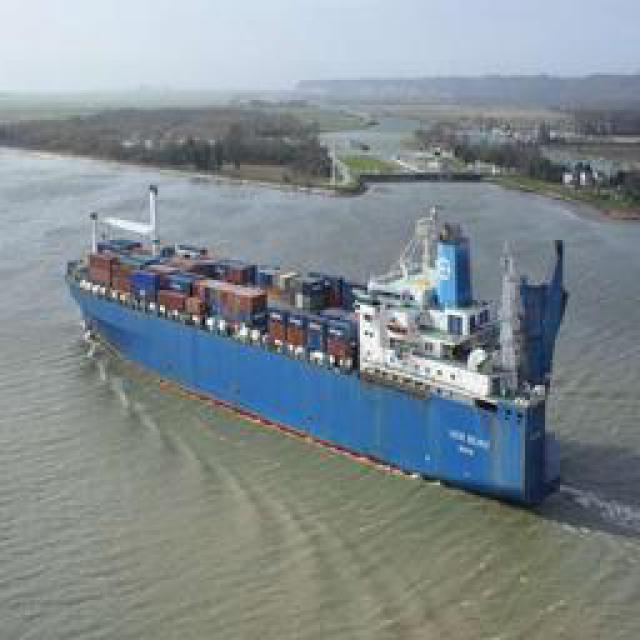Ship: (61, 202, 581, 535)
